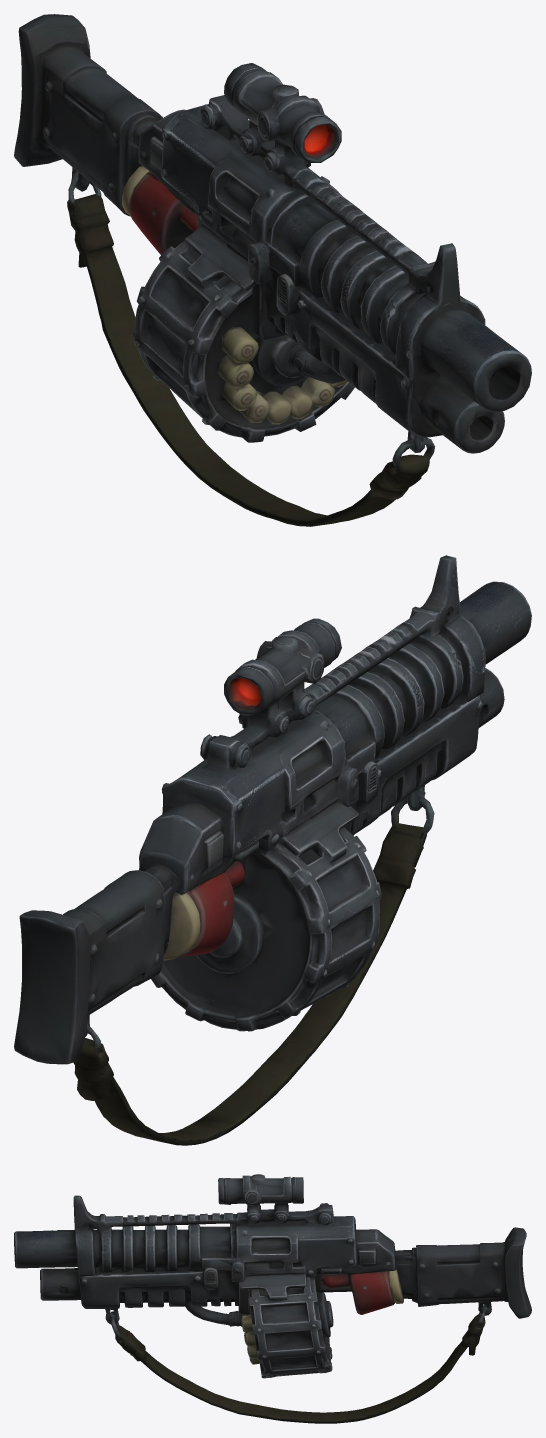
File: tripo_convert_2aafcd42-eba5-4f27-b108-1bda17598780.fbx
3 views of the same model, one above another, from view 1: azimuth 30°, elevation 25°; view 2: azimuth 150°, elevation 25°; view 3: azimuth 270°, elevation 25° (orthographic). The views are drawn at different scales.
Visible parts, largest first — view 1: tripo_part_1, tripo_part_0, tripo_part_2, tripo_part_3, tripo_part_6, tripo_part_4, tripo_part_5, tripo_part_7, tripo_part_9, tripo_part_8, tripo_part_10, tripo_part_13; view 2: tripo_part_0, tripo_part_3, tripo_part_1, tripo_part_2, tripo_part_5, tripo_part_6, tripo_part_4, tripo_part_8, tripo_part_10, tripo_part_11, tripo_part_12, tripo_part_9; view 3: tripo_part_1, tripo_part_3, tripo_part_2, tripo_part_0, tripo_part_4, tripo_part_6, tripo_part_5, tripo_part_8, tripo_part_10, tripo_part_9, tripo_part_13, tripo_part_11 (+2 smaller).
Part boxes in pixels (bbox=[...]): tripo_part_1: bbox=[265, 168, 531, 412]; tripo_part_0: bbox=[133, 224, 354, 442]; tripo_part_2: bbox=[14, 14, 162, 216]; tripo_part_3: bbox=[138, 95, 341, 340]; tripo_part_6: bbox=[67, 174, 314, 523]; tripo_part_4: bbox=[259, 268, 442, 452]; tripo_part_5: bbox=[224, 63, 341, 186]; tripo_part_7: bbox=[217, 327, 347, 424]; tripo_part_9: bbox=[414, 381, 504, 453]; tripo_part_8: bbox=[282, 432, 434, 526]; tripo_part_10: bbox=[129, 175, 199, 254]; tripo_part_13: bbox=[289, 345, 345, 383]; tripo_part_0: bbox=[151, 801, 381, 1031]; tripo_part_3: bbox=[139, 707, 358, 895]; tripo_part_1: bbox=[304, 555, 531, 774]; tripo_part_2: bbox=[14, 864, 182, 1064]; tripo_part_5: bbox=[224, 618, 341, 747]; tripo_part_6: bbox=[73, 1024, 322, 1145]; tripo_part_4: bbox=[344, 692, 482, 835]; tripo_part_8: bbox=[285, 791, 434, 1049]; tripo_part_10: bbox=[178, 861, 244, 957]; tripo_part_11: bbox=[196, 893, 264, 973]; tripo_part_12: bbox=[163, 891, 200, 960]; tripo_part_9: bbox=[478, 668, 504, 727]; tripo_part_1: bbox=[14, 1195, 246, 1276]; tripo_part_3: bbox=[217, 1203, 396, 1314]; tripo_part_2: bbox=[394, 1227, 531, 1318]; tripo_part_0: bbox=[239, 1274, 351, 1378]; tripo_part_4: bbox=[66, 1267, 238, 1324]; tripo_part_6: bbox=[239, 1305, 486, 1423]; tripo_part_5: bbox=[218, 1174, 308, 1225]; tripo_part_8: bbox=[109, 1314, 243, 1414]; tripo_part_10: bbox=[321, 1271, 394, 1314]; tripo_part_9: bbox=[40, 1268, 80, 1300]; tripo_part_13: bbox=[185, 1302, 241, 1326]; tripo_part_11: bbox=[317, 1292, 333, 1337].
Size of the model in its own units: 23.68 by 100 by 51.89.
14 materials, 14 textured.
